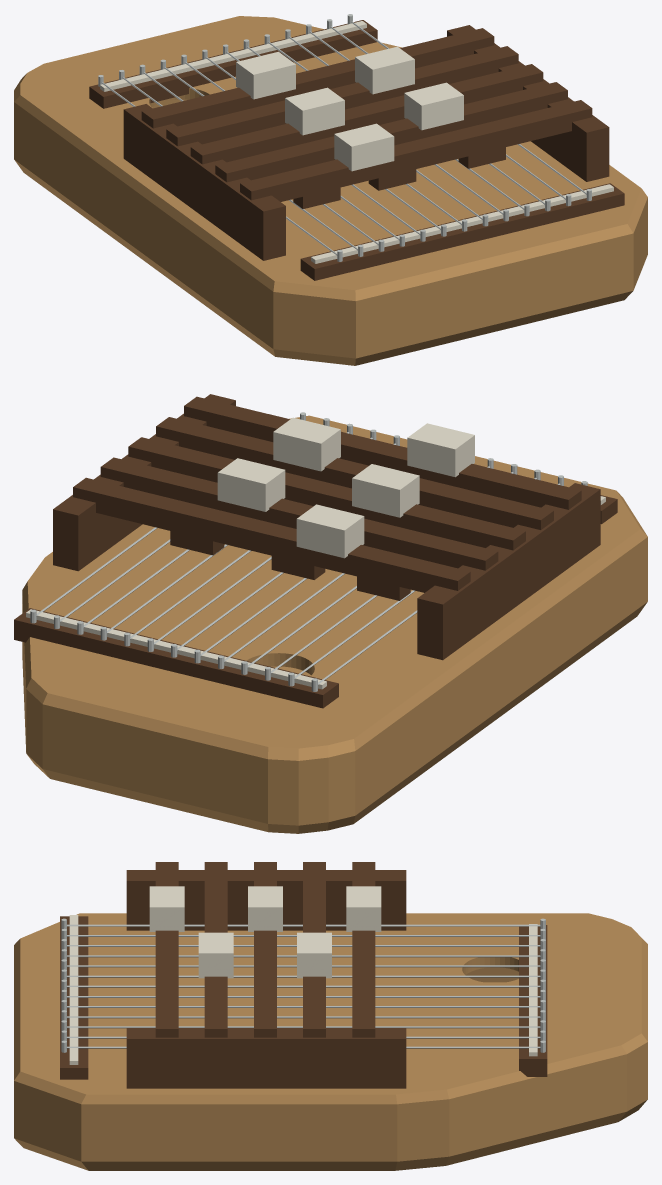
3 renders of one model, top to bottom at view 1: azimuth 30°, elevation 25°; view 2: azimuth 150°, elevation 25°; view 3: azimuth 270°, elevation 25°, orthographic. The views are drawn at different scales.
Parts seen in each view (by area): view 1: WholeGroundFootHollowClippedShoulderSoundbox, WholeChordBarSideRail_0, WholeCrossStringChordBar_0, WholeCrossStringChordBar_1, WholeCrossStringChordBar_2, WholeCrossStringChordBar_4, WholeCrossStringChordBar_3, WholeEndPinBank_Tail, WholeEndPinBank_Head, WholeChordBarSideRail_1, WholeRaisedChordButton_0, WholeRaisedChordButton_3 (+8 smaller); view 2: WholeGroundFootHollowClippedShoulderSoundbox, WholeChordBarSideRail_0, WholeCrossStringChordBar_4, WholeCrossStringChordBar_3, WholeCrossStringChordBar_1, WholeCrossStringChordBar_0, WholeCrossStringChordBar_2, WholeEndPinBank_Head, WholeChordBarSideRail_1, WholeRaisedChordButton_4, WholeRaisedChordButton_3, WholeRaisedChordButton_2 (+6 smaller); view 3: WholeGroundFootHollowClippedShoulderSoundbox, WholeChordBarSideRail_1, WholeChordBarSideRail_0, WholeCrossStringChordBar_1, WholeCrossStringChordBar_0, WholeCrossStringChordBar_4, WholeCrossStringChordBar_2, WholeCrossStringChordBar_3, WholeEndPinBank_Tail, WholeEndPinBank_Head, WholeRaisedChordButton_1, WholeRaisedChordButton_0 (+18 smaller).
Boxes of the visible parts, bbox=[...] form: WholeGroundFootHollowClippedShoulderSoundbox: bbox=[14, 16, 647, 365]; WholeChordBarSideRail_0: bbox=[123, 104, 285, 260]; WholeCrossStringChordBar_0: bbox=[240, 100, 592, 201]; WholeCrossStringChordBar_1: bbox=[215, 82, 567, 182]; WholeCrossStringChordBar_2: bbox=[190, 64, 543, 164]; WholeCrossStringChordBar_4: bbox=[141, 28, 494, 128]; WholeCrossStringChordBar_3: bbox=[166, 46, 518, 146]; WholeEndPinBank_Tail: bbox=[300, 183, 624, 280]; WholeEndPinBank_Head: bbox=[89, 20, 377, 108]; WholeChordBarSideRail_1: bbox=[447, 25, 609, 181]; WholeRaisedChordButton_0: bbox=[334, 123, 394, 171]; WholeRaisedChordButton_3: bbox=[355, 46, 414, 94]; WholeGroundFootHollowClippedShoulderSoundbox: bbox=[22, 415, 647, 833]; WholeChordBarSideRail_0: bbox=[417, 483, 600, 660]; WholeCrossStringChordBar_4: bbox=[73, 477, 470, 592]; WholeCrossStringChordBar_3: bbox=[100, 457, 498, 570]; WholeCrossStringChordBar_1: bbox=[156, 417, 553, 529]; WholeCrossStringChordBar_0: bbox=[184, 396, 581, 509]; WholeCrossStringChordBar_2: bbox=[128, 437, 525, 550]; WholeEndPinBank_Head: bbox=[14, 608, 338, 708]; WholeChordBarSideRail_1: bbox=[53, 394, 235, 571]; WholeRaisedChordButton_4: bbox=[296, 504, 364, 558]; WholeRaisedChordButton_3: bbox=[217, 458, 285, 511]; WholeRaisedChordButton_2: bbox=[352, 464, 419, 517]; WholeGroundFootHollowClippedShoulderSoundbox: bbox=[14, 913, 647, 1170]; WholeChordBarSideRail_1: bbox=[126, 1028, 406, 1088]; WholeChordBarSideRail_0: bbox=[126, 870, 406, 930]; WholeCrossStringChordBar_1: bbox=[204, 862, 227, 1037]; WholeCrossStringChordBar_0: bbox=[155, 862, 178, 1037]; WholeCrossStringChordBar_4: bbox=[352, 862, 375, 1037]; WholeCrossStringChordBar_2: bbox=[254, 862, 276, 1037]; WholeCrossStringChordBar_3: bbox=[303, 862, 325, 1037]; WholeEndPinBank_Tail: bbox=[60, 916, 88, 1079]; WholeEndPinBank_Head: bbox=[519, 925, 547, 1076]; WholeRaisedChordButton_1: bbox=[198, 932, 233, 978]; WholeRaisedChordButton_0: bbox=[149, 886, 184, 931].
Size of the model in its own units: 0.4 by 0.1605 by 0.58.
